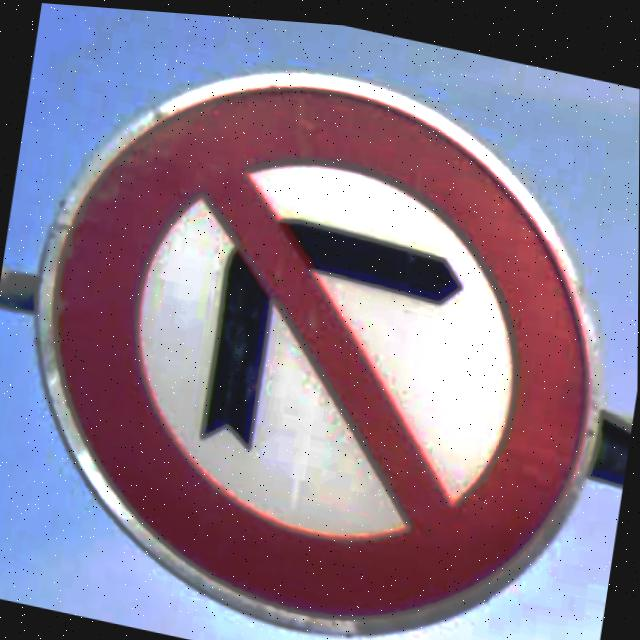noturnright: (55, 84, 588, 616)
